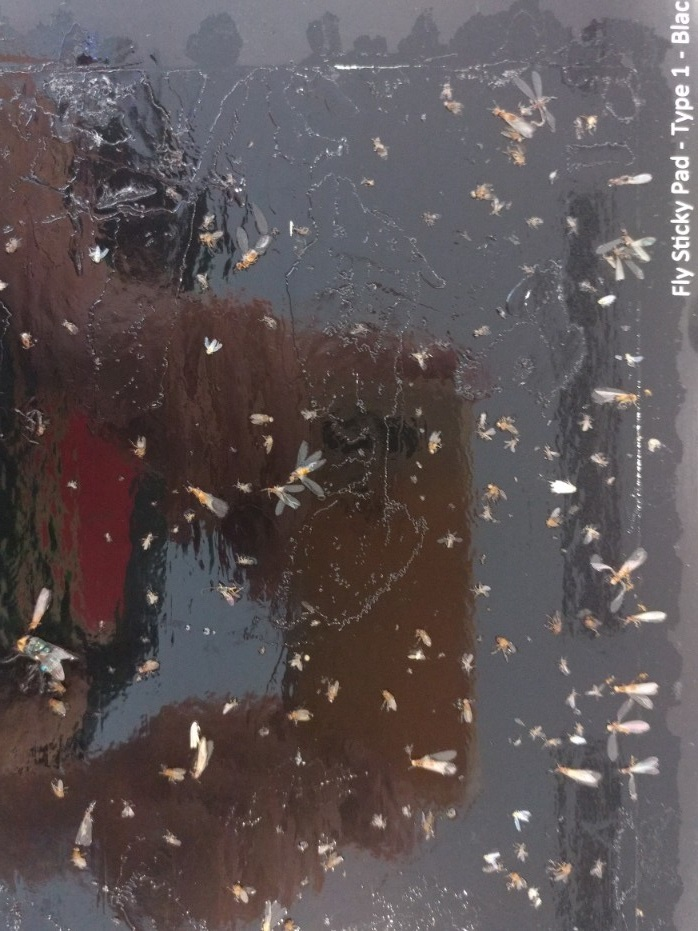fly: (1, 624, 83, 693)
